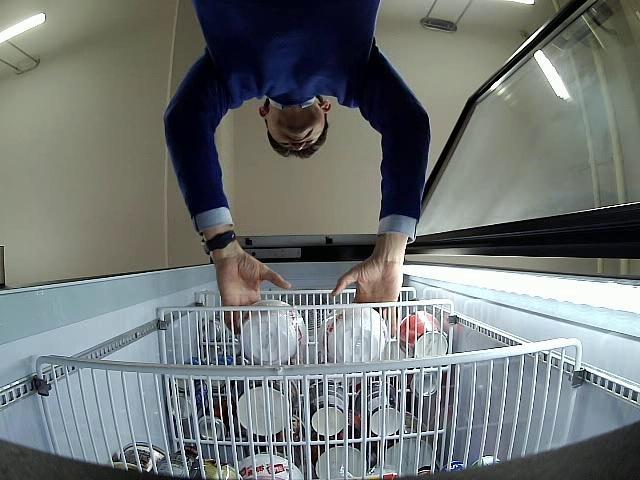09_yukGaeJang: (240, 300, 306, 366), (323, 306, 388, 363)
